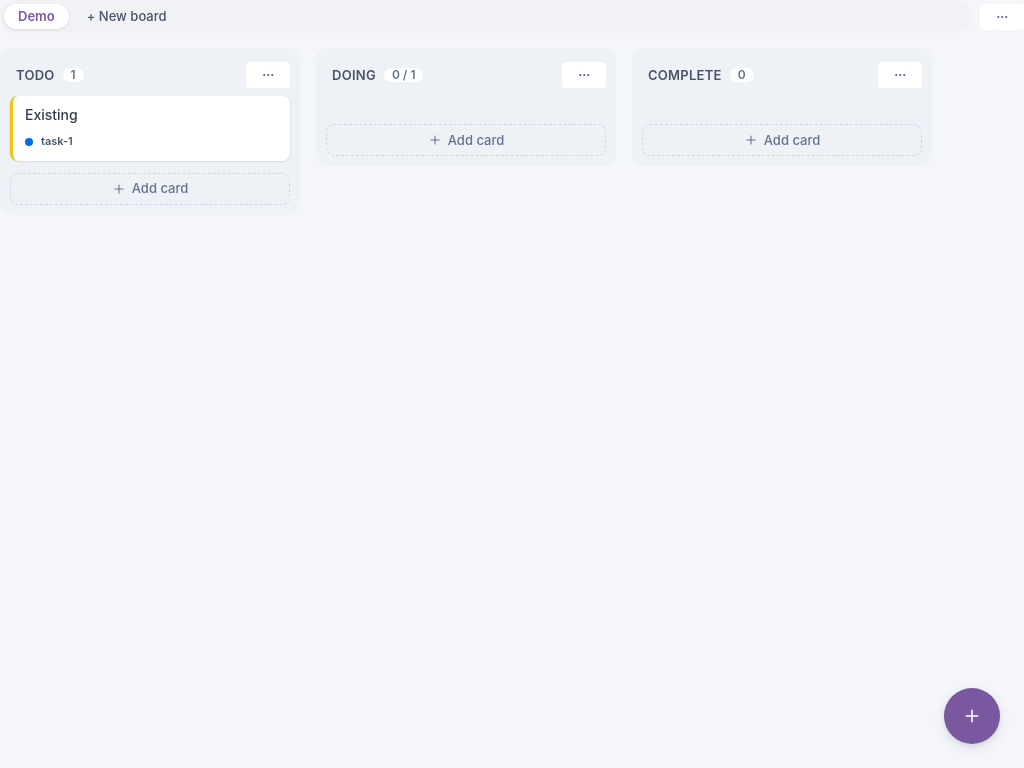
it: KanbanBoard › creates a card from the modal and refetches
Expected: the text "Existing" is shown, x1=25 y1=106 x2=78 y2=123
Step 1. Click the button with aria-label "Add card to Doing" → (466, 140), box x1=326 y1=124 x2=606 y2=156
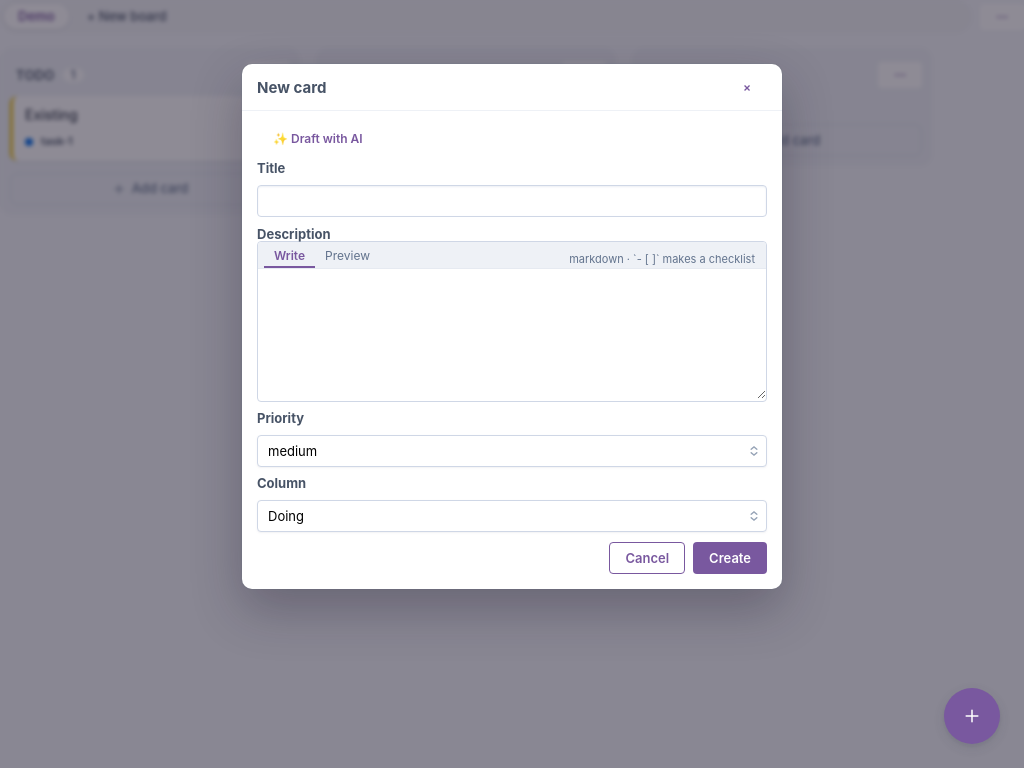
Now the dropdown labelled "Column" shows "Doing", box x1=257 y1=500 x2=767 y2=532
Step 2. Type "Brand new" into the field labelled "Title" → (512, 201), box x1=257 y1=185 x2=767 y2=217
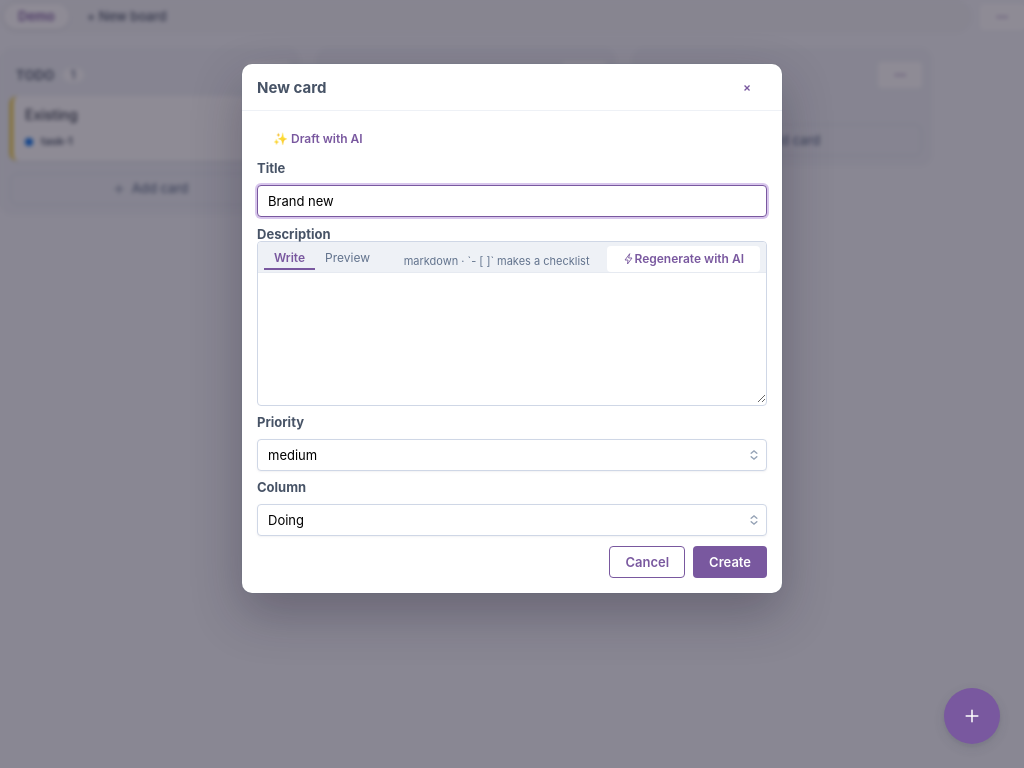
Step 3. Type "details" into the text box labelled "Description" → (512, 338), box x1=258 y1=273 x2=766 y2=403
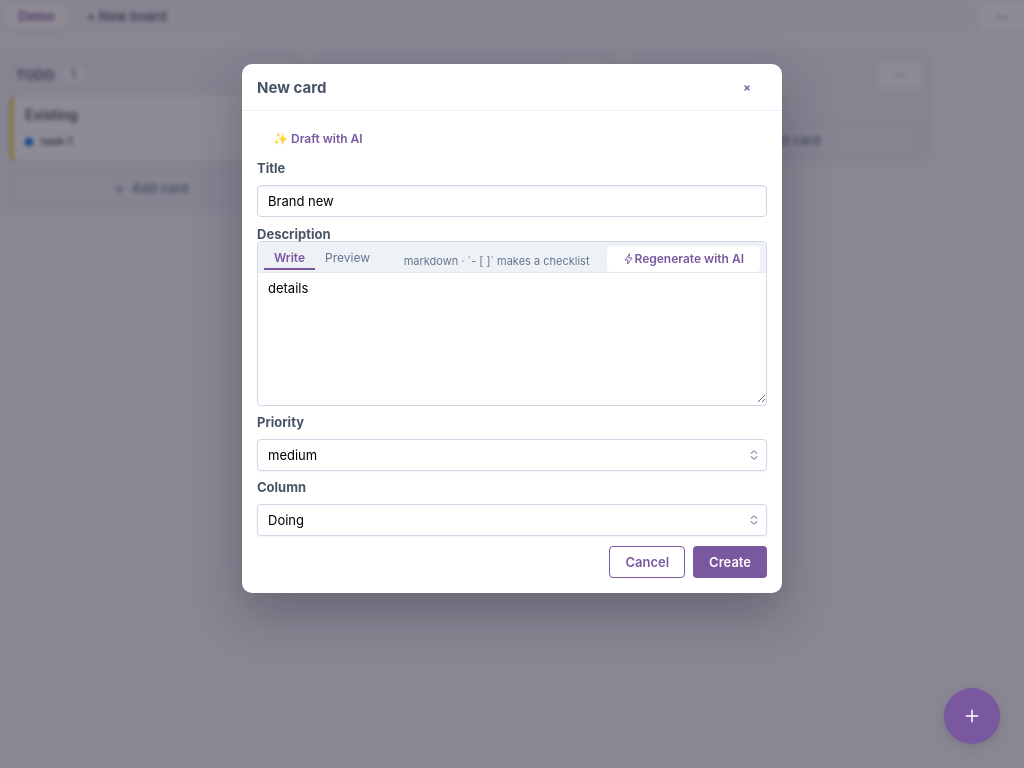
Step 4. Select "high" in the dropdown labelled "Priority" → (512, 455), box x1=257 y1=439 x2=767 y2=471
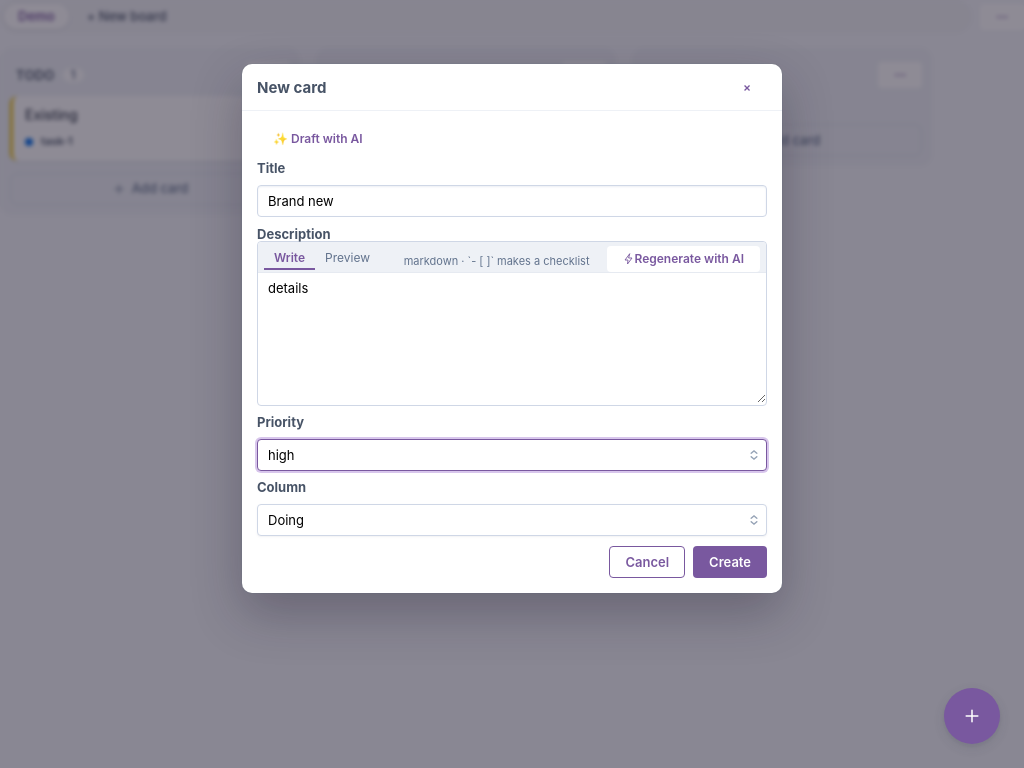
Step 5. Click the button "Create" → (730, 562), box x1=693 y1=546 x2=767 y2=578
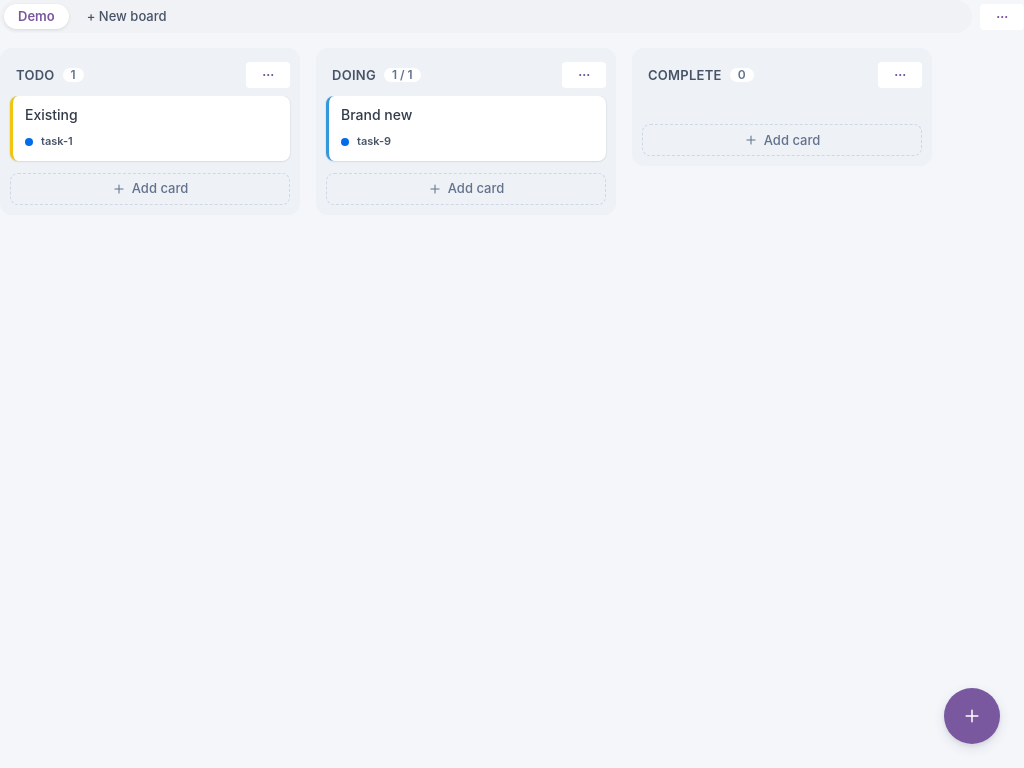
Now the text "Brand new" is shown, box x1=341 y1=106 x2=412 y2=123
Now the dialog is gone
